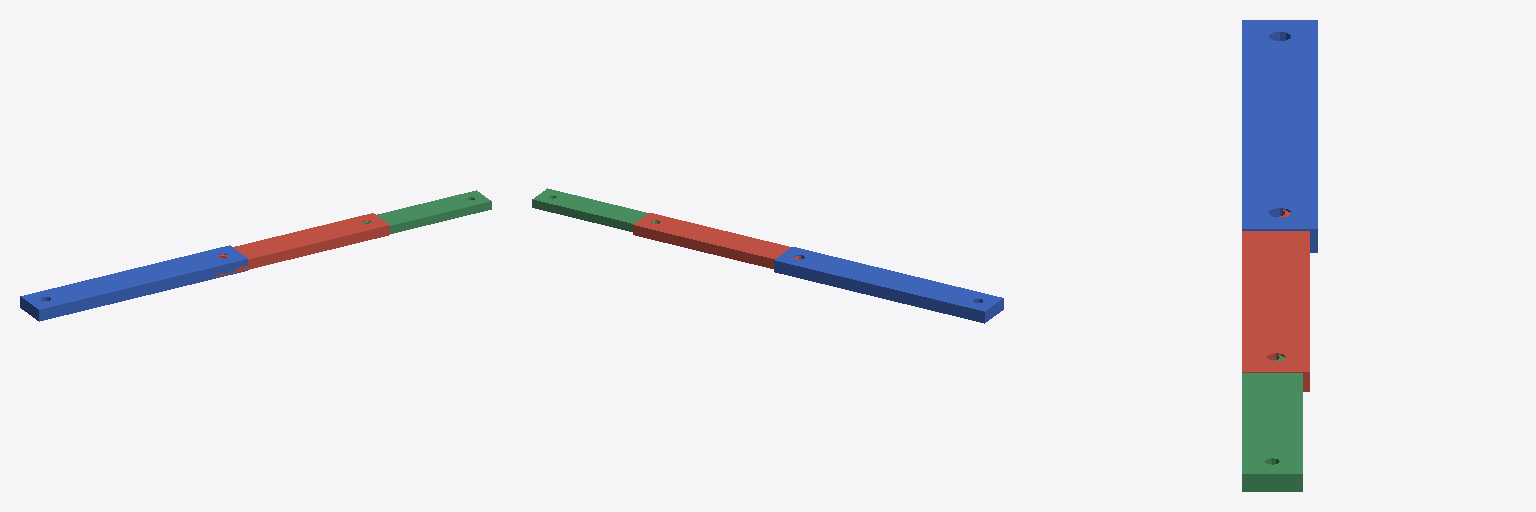
URDF robot description (three_dof_robot_3r):
<?xml version='1.0' encoding='utf-8'?>
<robot name="three_dof_robot_3r">
  <link name="base_link" />
  <link name="link1">
    <inertial>
      <origin xyz="0.110000 0 0" rpy="0 0 0" />
      <mass value="0.332640" />
      <inertia ixx="0.000049785" ixy="0" ixz="0" iyy="0.001347081" iyz="0" izz="0.001386000" />
    </inertial>
    <visual>
      <origin xyz="0 0 0" rpy="0 0 0" />
      <geometry>
        <mesh filename="package://three_dof_robot_3r_description/meshes/link1.STL" scale="0.001 0.001 0.001" />
      </geometry>
      <material name="link1_mat">
        <color rgba="0.280 0.450 0.820 1.000" />
      </material>
    </visual>
    <collision>
      <origin xyz="0 0 0" rpy="0 0 0" />
      <geometry>
        <mesh filename="package://three_dof_robot_3r_description/meshes/link1.STL" scale="0.001 0.001 0.001" />
      </geometry>
    </collision>
  </link>
  <link name="link2">
    <inertial>
      <origin xyz="0.090000 0 0" rpy="0 0 0" />
      <mass value="0.209952" />
      <inertia ixx="0.000025194" ixy="0" ixz="0" iyy="0.000569390" iyz="0" izz="0.000589545" />
    </inertial>
    <visual>
      <origin xyz="0 0 0" rpy="0 0 0" />
      <geometry>
        <mesh filename="package://three_dof_robot_3r_description/meshes/link2.STL" scale="0.001 0.001 0.001" />
      </geometry>
      <material name="link2_mat">
        <color rgba="0.840 0.360 0.300 1.000" />
      </material>
    </visual>
    <collision>
      <origin xyz="0 0 0" rpy="0 0 0" />
      <geometry>
        <mesh filename="package://three_dof_robot_3r_description/meshes/link2.STL" scale="0.001 0.001 0.001" />
      </geometry>
    </collision>
  </link>
  <link name="link3">
    <inertial>
      <origin xyz="0.065000 0 0" rpy="0 0 0" />
      <mass value="0.112320" />
      <inertia ixx="0.000010521" ixy="0" ixz="0" iyy="0.000159120" iyz="0" izz="0.000167769" />
    </inertial>
    <visual>
      <origin xyz="0 0 0" rpy="0 0 0" />
      <geometry>
        <mesh filename="package://three_dof_robot_3r_description/meshes/link3.STL" scale="0.001 0.001 0.001" />
      </geometry>
      <material name="link3_mat">
        <color rgba="0.320 0.620 0.420 1.000" />
      </material>
    </visual>
    <collision>
      <origin xyz="0 0 0" rpy="0 0 0" />
      <geometry>
        <mesh filename="package://three_dof_robot_3r_description/meshes/link3.STL" scale="0.001 0.001 0.001" />
      </geometry>
    </collision>
  </link>
  <joint name="joint1" type="revolute">
    <origin xyz="0 0 0" rpy="0 0 0" />
    <parent link="base_link" />
    <child link="link1" />
    <axis xyz="0 0 1" />
    <limit lower="-3.141593" upper="3.141593" effort="10" velocity="2" />
    <dynamics damping="0.05" friction="0.0" />
  </joint>
  <joint name="joint2" type="revolute">
    <origin xyz="0.220000 0 0" rpy="0 0 0" />
    <parent link="link1" />
    <child link="link2" />
    <axis xyz="0 0 1" />
    <limit lower="-3.141593" upper="3.141593" effort="10" velocity="2" />
    <dynamics damping="0.05" friction="0.0" />
  </joint>
  <joint name="joint3" type="revolute">
    <origin xyz="0.180000 0 0" rpy="0 0 0" />
    <parent link="link2" />
    <child link="link3" />
    <axis xyz="0 0 1" />
    <limit lower="-3.141593" upper="3.141593" effort="10" velocity="2" />
    <dynamics damping="0.05" friction="0.0" />
  </joint>
</robot>

--- Facts derived from the render (not from the file) ---
The picture shows the robot from 3 angles, left to right: view 1: azimuth 30°, elevation 25°; view 2: azimuth 150°, elevation 25°; view 3: azimuth 270°, elevation 25°; orthographic projection.
Model three_dof_robot_3r with 4 links and 3 joints (3 revolute), rooted at base_link, posed every joint at zero.
Visible links, largest first — view 1: link1, link2, link3; view 2: link1, link2, link3; view 3: link1, link2, link3.
Link boxes in pixels (bbox=[...]): link1: bbox=[20, 245, 247, 321]; link2: bbox=[216, 213, 389, 277]; link3: bbox=[363, 190, 491, 233]; link1: bbox=[774, 247, 1003, 323]; link2: bbox=[633, 213, 800, 268]; link3: bbox=[532, 188, 657, 231]; link1: bbox=[1242, 20, 1317, 252]; link2: bbox=[1242, 210, 1309, 391]; link3: bbox=[1242, 355, 1302, 491].
Size in the robot's own frame: 0.562 by 0.04 by 0.014 metres.
Meshes: 3 distinct files referenced, 3 mesh visuals loaded (3 binary STL).
